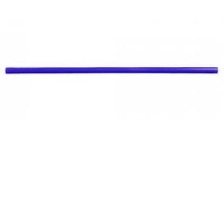drinking_straw: (1, 61, 221, 79)
